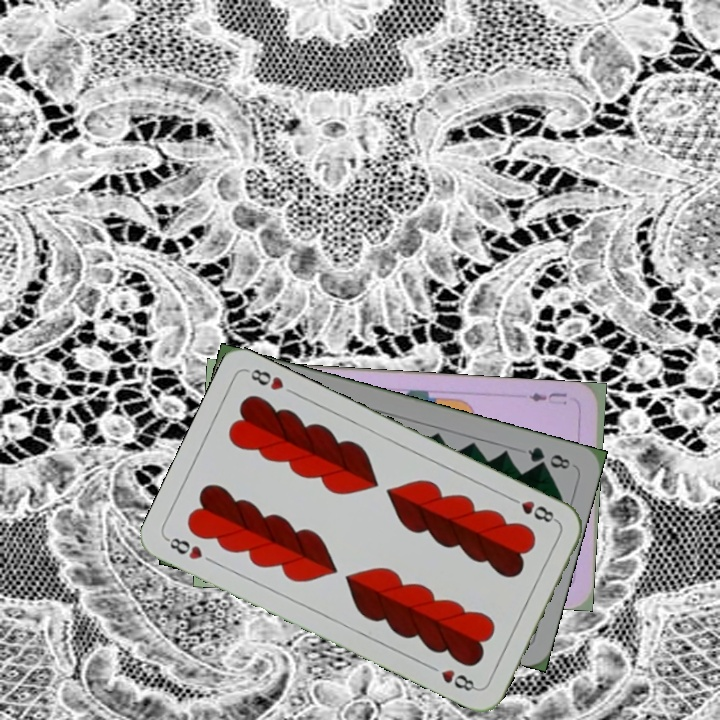EU: (525, 388, 570, 408)
G8: (523, 442, 573, 472)
H8: (505, 493, 560, 526), (163, 533, 205, 563)
